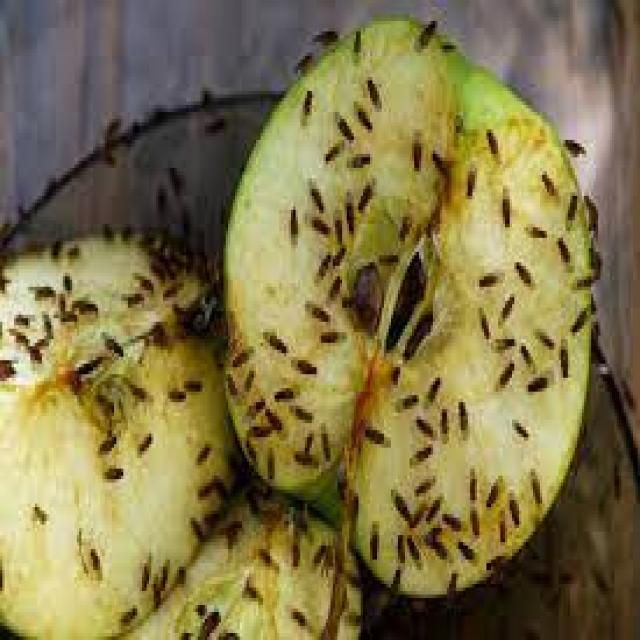fruit fly: (382, 476, 414, 532), (300, 14, 342, 56), (517, 357, 556, 402), (477, 462, 507, 518), (575, 182, 603, 241), (256, 318, 291, 364), (456, 451, 482, 511), (407, 402, 440, 448), (400, 115, 424, 178), (160, 150, 188, 203), (403, 430, 435, 476), (198, 102, 233, 144), (449, 388, 475, 444), (554, 126, 591, 164), (470, 259, 507, 297), (380, 552, 408, 602), (398, 524, 426, 574), (342, 91, 375, 133), (563, 294, 596, 336), (256, 395, 289, 437), (123, 370, 156, 412), (477, 115, 503, 168), (491, 178, 517, 231), (498, 479, 524, 532), (356, 63, 384, 112), (114, 276, 149, 315), (349, 168, 375, 220), (419, 483, 449, 528), (326, 102, 358, 144), (298, 287, 330, 329), (517, 206, 549, 248), (521, 454, 545, 510), (389, 378, 421, 420), (361, 507, 382, 570), (300, 200, 331, 242), (409, 7, 440, 49), (95, 105, 126, 147), (556, 182, 582, 231), (533, 161, 561, 206), (526, 314, 556, 356), (284, 392, 314, 434), (98, 322, 128, 364), (156, 270, 186, 312), (82, 538, 107, 588), (549, 329, 573, 381), (468, 294, 493, 343), (338, 136, 372, 172), (419, 360, 442, 413), (510, 336, 542, 374), (126, 259, 158, 297), (286, 38, 317, 77), (288, 346, 319, 385), (160, 374, 191, 413), (242, 412, 275, 448), (358, 413, 389, 451), (237, 574, 268, 612), (305, 242, 333, 284), (424, 140, 452, 182), (508, 248, 536, 290), (449, 524, 477, 566), (491, 350, 517, 395), (132, 542, 154, 595), (147, 171, 172, 217), (342, 14, 365, 63), (184, 503, 207, 552), (547, 224, 572, 269), (268, 374, 300, 409), (130, 419, 156, 462), (302, 171, 326, 217), (258, 440, 280, 490), (410, 465, 438, 504), (235, 426, 261, 468), (226, 336, 258, 370), (316, 133, 347, 168), (565, 259, 596, 294), (237, 388, 268, 423), (286, 598, 317, 633), (437, 560, 461, 605), (430, 399, 454, 444), (112, 594, 142, 630), (151, 546, 175, 591), (491, 283, 514, 329), (486, 325, 519, 357), (193, 602, 224, 636), (324, 228, 349, 270), (391, 203, 414, 248), (235, 357, 258, 402), (458, 154, 479, 203), (135, 213, 161, 252), (212, 511, 249, 538), (72, 290, 103, 322), (93, 133, 119, 171), (98, 451, 126, 486), (90, 423, 118, 458), (254, 535, 279, 574), (461, 500, 484, 542), (370, 241, 400, 273), (314, 420, 335, 465), (193, 468, 219, 504), (505, 409, 531, 444), (405, 493, 428, 532), (114, 206, 137, 245), (480, 542, 508, 574), (177, 367, 205, 399), (307, 528, 328, 570), (189, 430, 214, 465), (342, 560, 365, 598), (435, 504, 463, 535), (338, 186, 356, 234), (312, 322, 344, 349), (279, 196, 298, 241), (293, 77, 312, 122), (382, 356, 402, 398), (389, 525, 407, 570), (221, 364, 242, 402), (284, 532, 305, 570), (56, 259, 77, 297), (587, 245, 605, 283), (95, 210, 114, 245), (324, 266, 342, 301), (188, 594, 210, 622), (170, 556, 188, 584), (51, 224, 63, 259)
